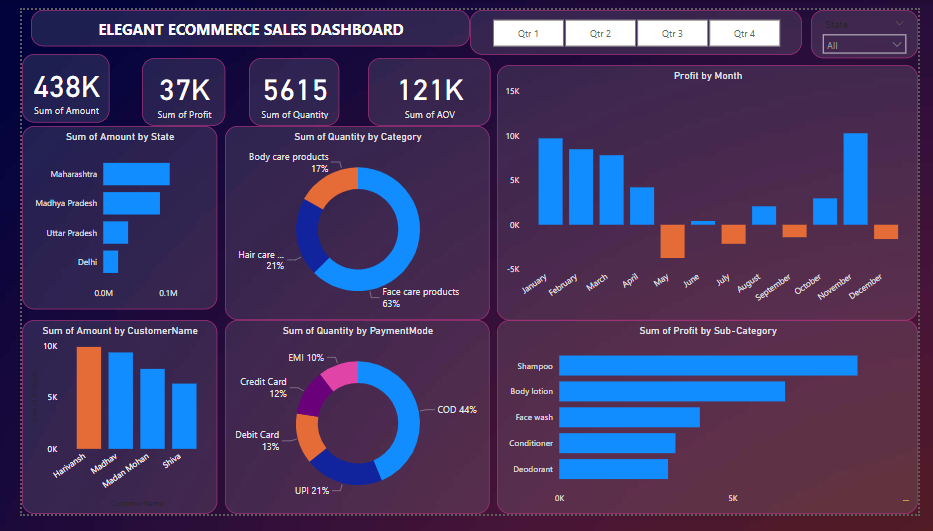

This screenshot's page, from the dashboard's own definition file:
{"tool":"powerbi","page":{"name":"Page 1","canvas":[1280,720],"ordinal":0},"visuals":[{"type":"textbox","box":[13.4,0,626.6,52.1],"z":0},{"type":"columnChart","title":"Profit by Month","fields":{"Y":["Details.Profit"],"Category":["Orders.Order Date.Variation.Date Hierarchy.Month"]},"box":[678.6,79,601.4,364.5],"z":1000},{"type":"barChart","fields":{"Category":["Details.Sub-Category"],"Y":["Details.Profit"]},"box":[678.6,443.5,601.4,277.2],"z":2000},{"type":"donutChart","fields":{"Category":["Details.Category"],"Y":["Details.Quantity"]},"box":[290.6,166.3,378,277.2],"z":3000},{"type":"donutChart","fields":{"Y":["Details.Quantity"],"Category":["Details.PaymentMode"]},"box":[290.6,443.5,378,277.2],"z":4000},{"type":"card","fields":{"Values":["Details.Amount"]},"box":[0,63.2,125,97.7],"z":5000},{"type":"card","fields":{"Values":["Details.Quantity"]},"box":[324.2,68.9,129.3,97.4],"z":6000},{"type":"card","fields":{"Values":["Details.Profit"]},"box":[171.3,68.9,119.3,97.4],"z":7000},{"type":"card","fields":{"Values":["Details.AOV"]},"box":[493.9,68.9,174.7,97.4],"z":8000},{"type":"barChart","fields":{"Category":["Orders.State"],"Y":["Details.Amount"]},"box":[0,166.3,278.8,262],"z":9000},{"type":"columnChart","fields":{"Category":["Orders.CustomerName"],"Y":["Details.Amount"]},"box":[0,443.5,278.8,277.2],"z":10000},{"type":"slicer","fields":{"Values":["Orders.Order Date.Variation.Date Hierarchy.Quarter"]},"box":[640,0,473.7,63.8],"z":11000},{"type":"slicer","fields":{"Values":["Orders.State"]},"box":[1127.1,0,152.9,68.9],"z":12000}]}

Visuals, with their boxes in screenshot pixels (x1, y1, x2, y2), scaled from the page's 1280x720 canvas onto the 933x531 screenshot:
textbox: l=10, t=0, r=466, b=38
"Profit by Month" columnChart: l=495, t=58, r=932, b=327
barChart - Details.Sub-Category x Details.Profit: l=495, t=327, r=932, b=530
donutChart - Details.Category x Details.Quantity: l=212, t=123, r=487, b=327
donutChart - Details.Quantity x Details.PaymentMode: l=212, t=327, r=487, b=530
card - Details.Amount: l=0, t=47, r=91, b=119
card - Details.Quantity: l=236, t=51, r=331, b=123
card - Details.Profit: l=125, t=51, r=212, b=123
card - Details.AOV: l=360, t=51, r=487, b=123
barChart - Orders.State x Details.Amount: l=0, t=123, r=203, b=316
columnChart - Orders.CustomerName x Details.Amount: l=0, t=327, r=203, b=530
slicer - Orders.Order Date.Variation.Date Hierarchy.Quarter: l=466, t=0, r=812, b=47
slicer - Orders.State: l=822, t=0, r=932, b=51
